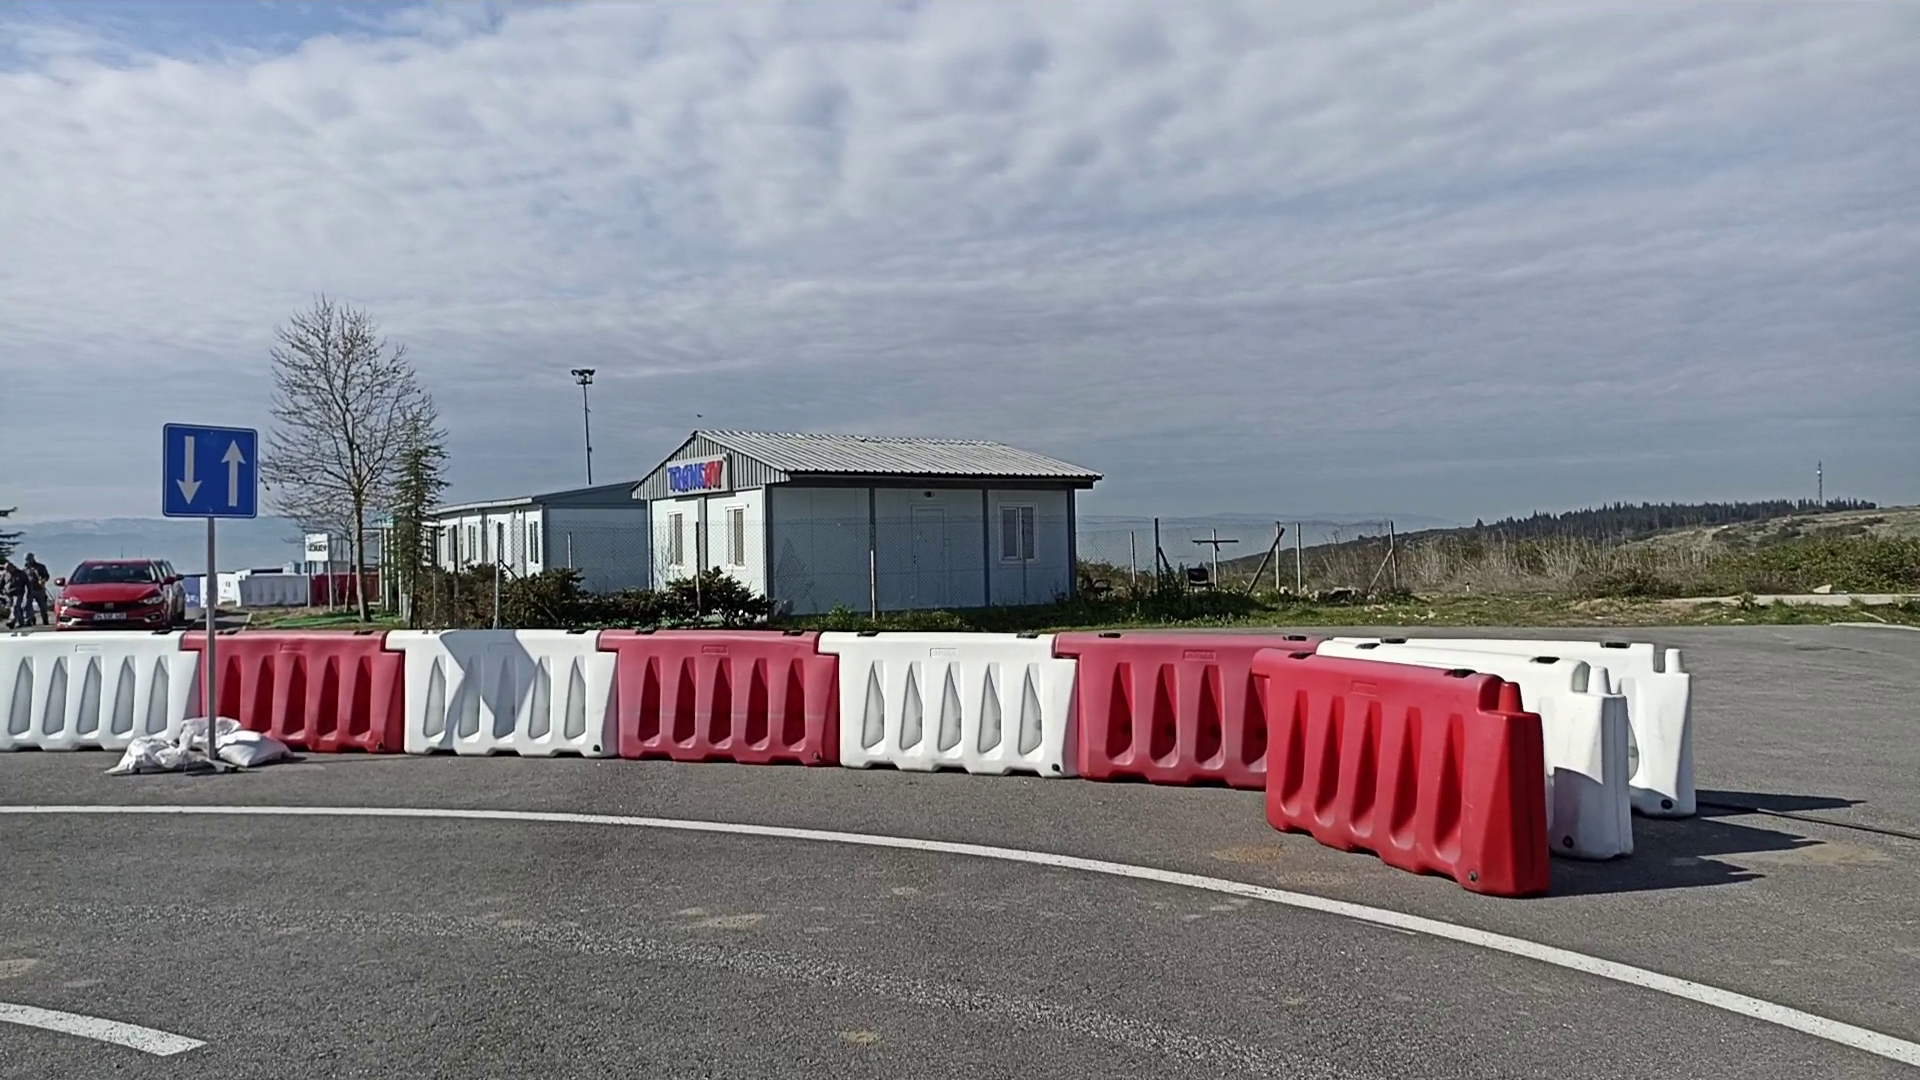oneway: (161, 422, 261, 520)
